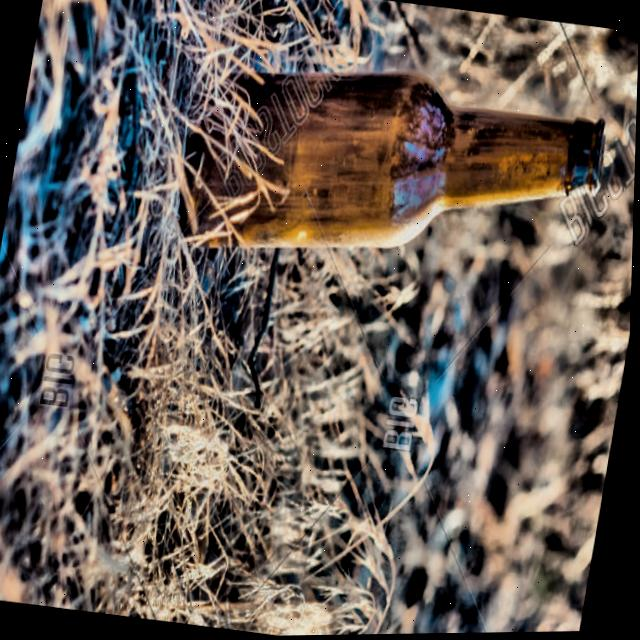glass: (181, 33, 621, 296)
